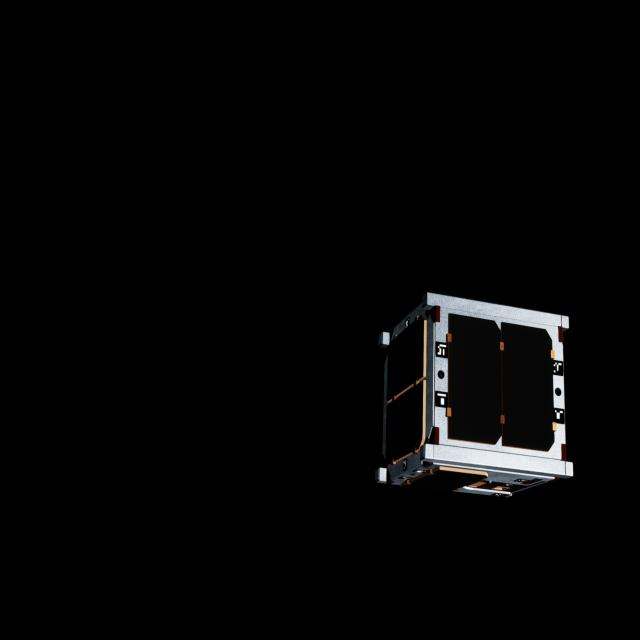satellite: (366, 286, 580, 503)
